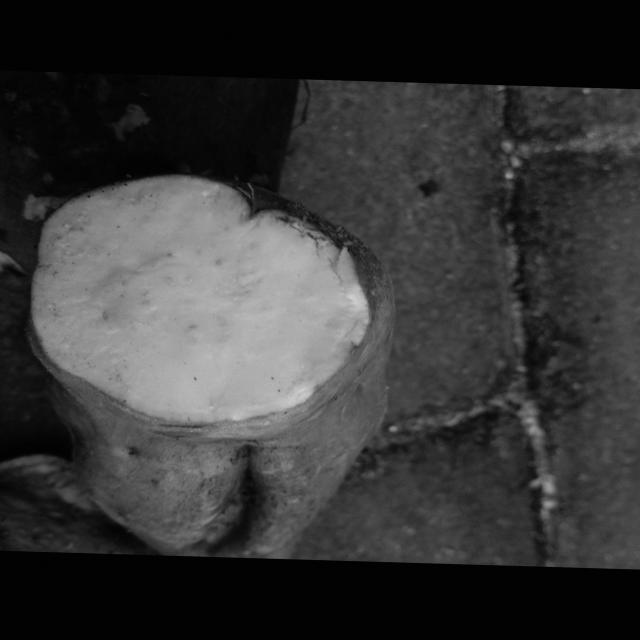Healthy Sweet Potato: (32, 175, 368, 422)
